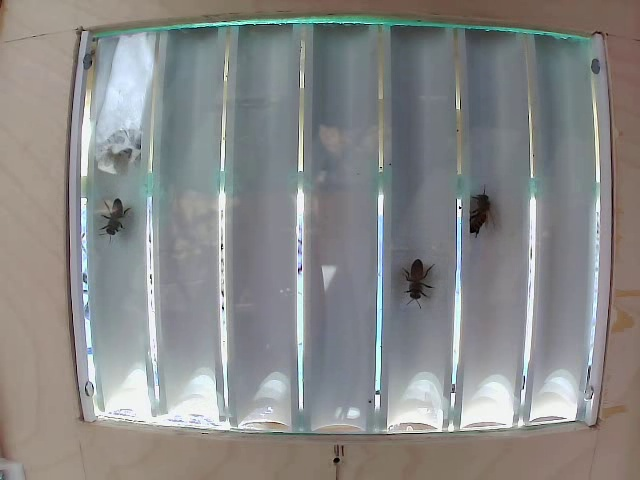bee: (391, 237, 435, 306), (467, 179, 502, 239), (104, 193, 134, 253)
